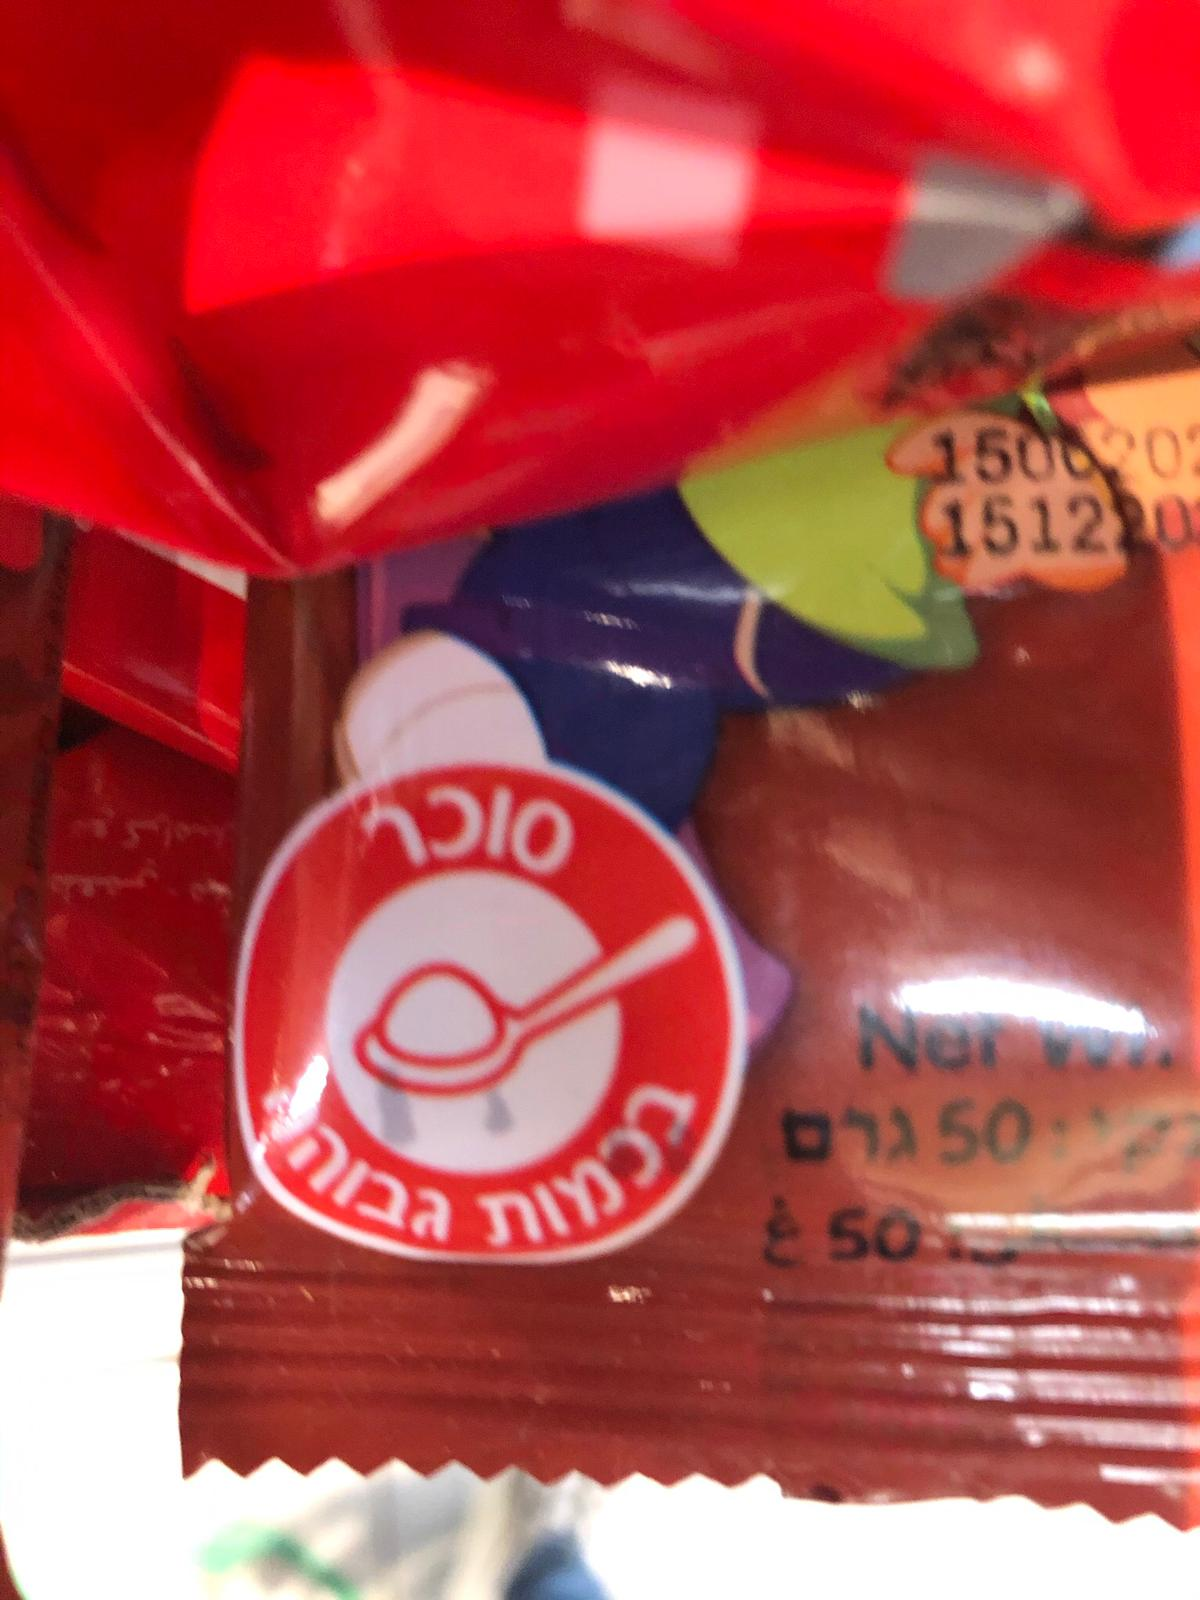sugar: (227, 758, 756, 1271)
